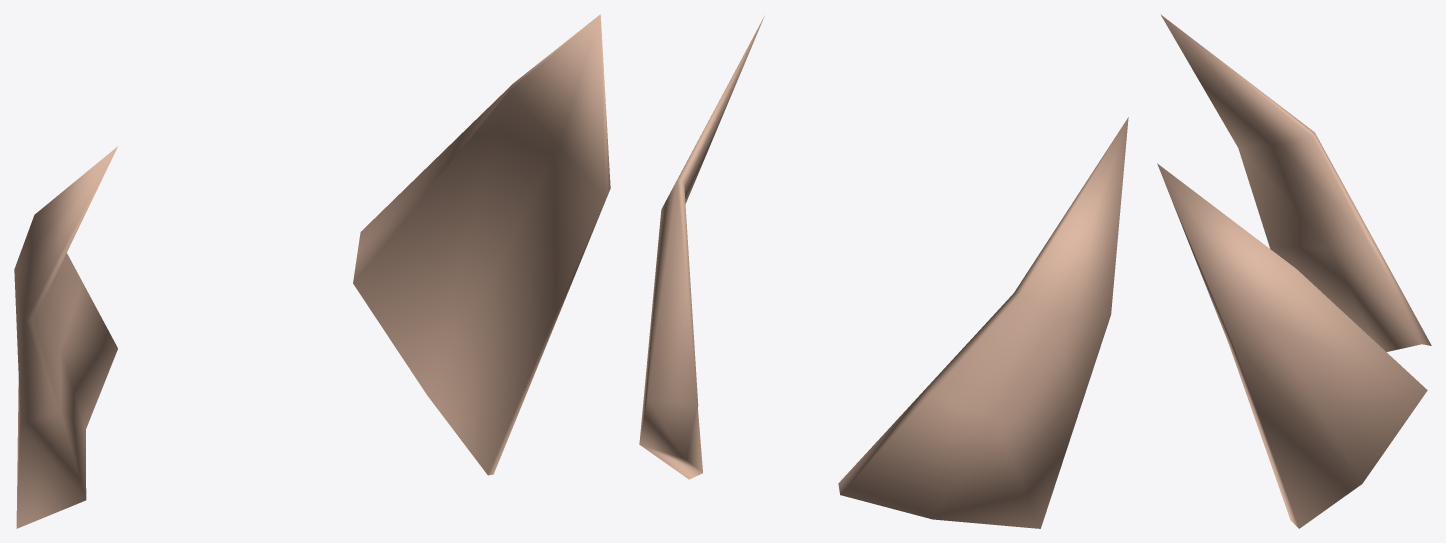
File: BatDarwinEar.fbx
The picture shows the model from 3 angles, left to right: view 1: azimuth 30°, elevation 25°; view 2: azimuth 150°, elevation 25°; view 3: azimuth 270°, elevation 25°; orthographic projection. The views are drawn at different scales.
Visible parts, largest first — view 1: Cube; view 2: Cube; view 3: Cube.
Boxes of the visible parts, x1=… form: Cube: x1=14, y1=14, x2=610, y2=528; Cube: x1=639, y1=16, x2=1128, y2=528; Cube: x1=1157, y1=14, x2=1431, y2=528.
Size of the model in its own units: 496 by 438 by 297.
